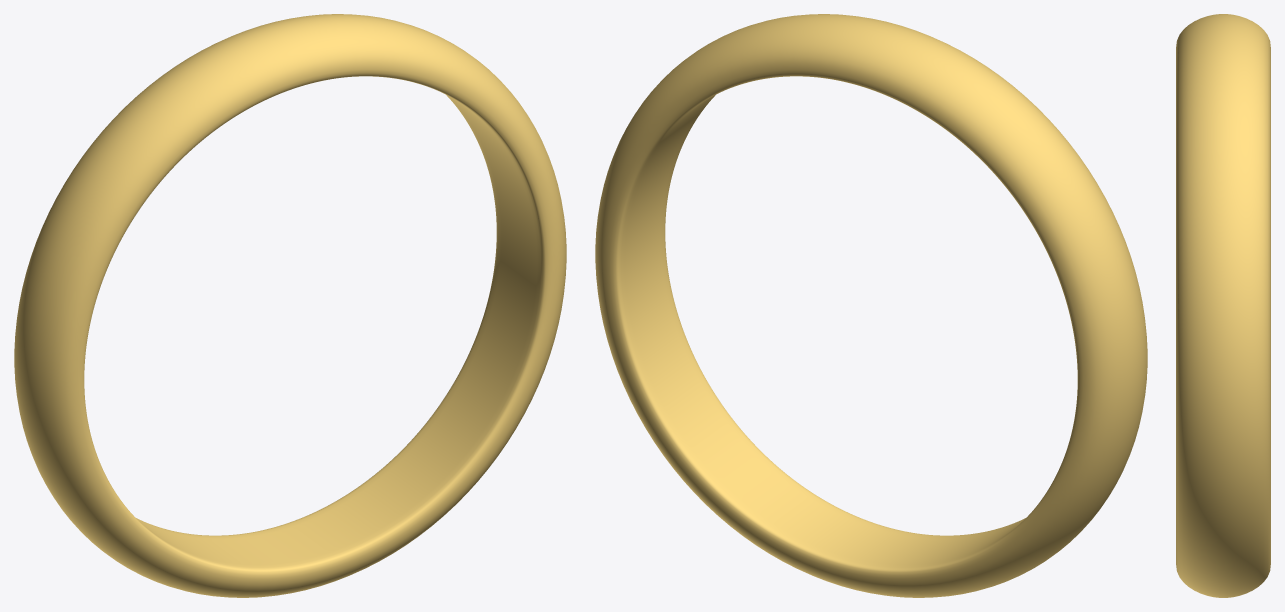
The model's file is Pat3.5ygwb_blender.glb.
3 views of the same model, side by side, from view 1: azimuth 30°, elevation 25°; view 2: azimuth 150°, elevation 25°; view 3: azimuth 270°, elevation 25° (orthographic). The views are drawn at different scales.
Parts seen in each view (by area): view 1: Patrick 3.5 mm YG for 3d model; view 2: Patrick 3.5 mm YG for 3d model; view 3: Patrick 3.5 mm YG for 3d model.
Part boxes in pixels (x1,y1,x2,y2): Patrick 3.5 mm YG for 3d model: (14,14,566,597); Patrick 3.5 mm YG for 3d model: (595,14,1147,597); Patrick 3.5 mm YG for 3d model: (1176,14,1270,597).
Bounding box in the file's own units: 22.16 × 22.17 × 3.6.
